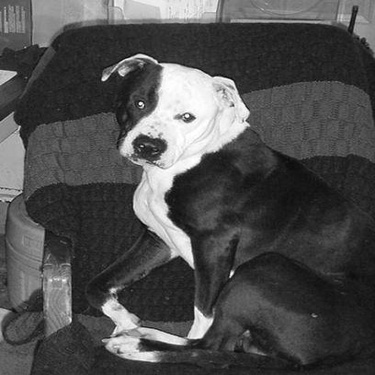dog: (74, 43, 370, 371)
